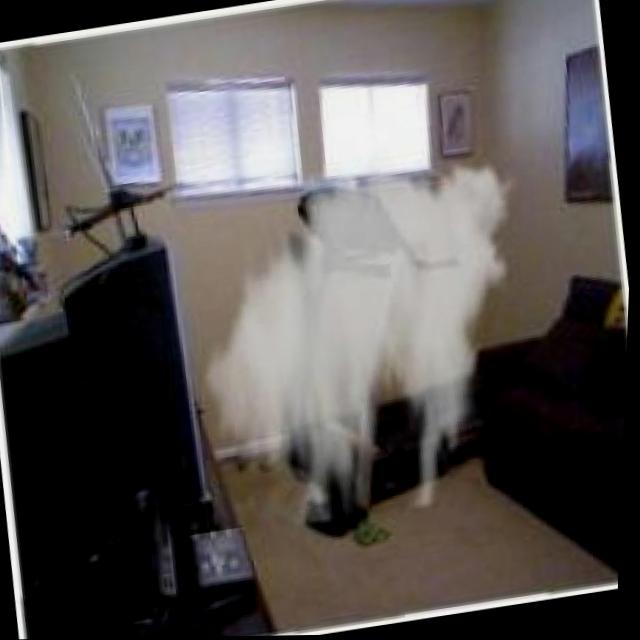no_helmet: (164, 126, 570, 541)
